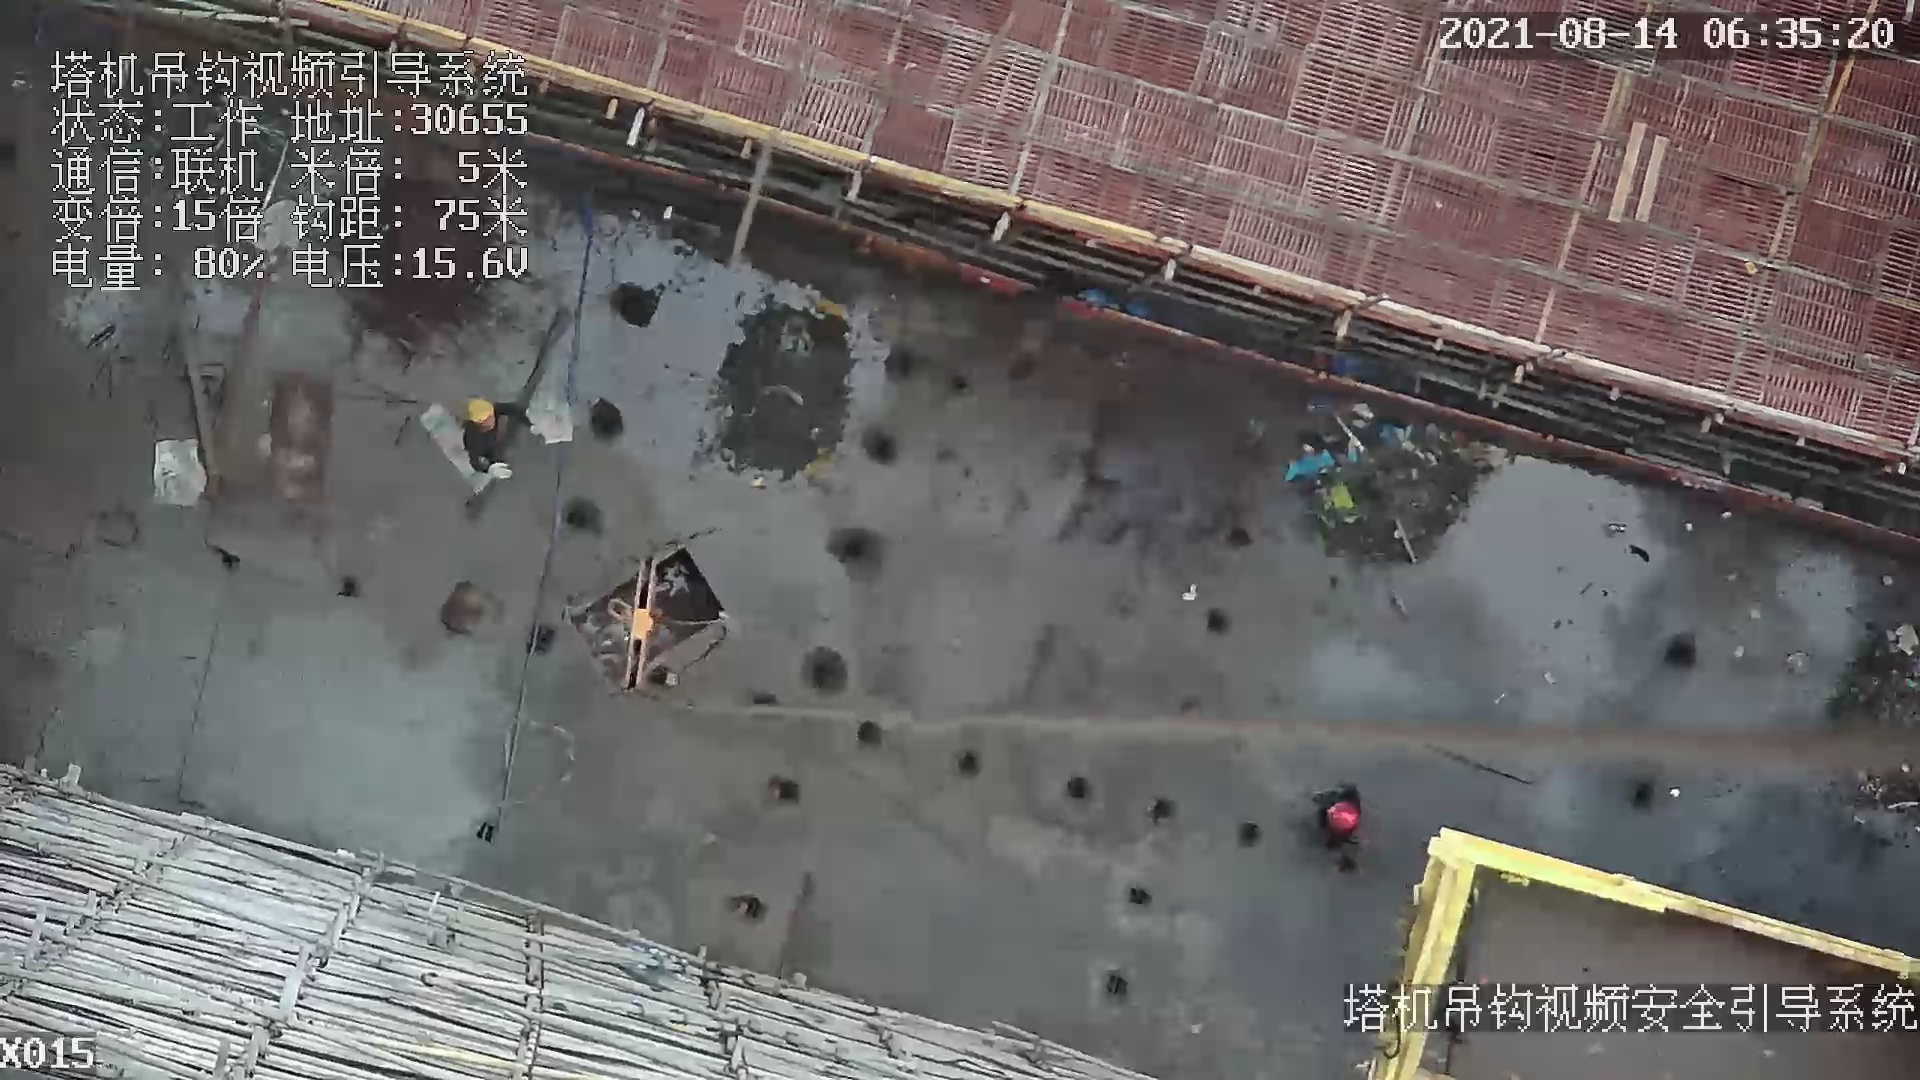helmet: (1323, 799, 1359, 834), (465, 397, 496, 424)
hook: (612, 555, 658, 692)
hopper: (572, 533, 741, 715)
person: (456, 395, 532, 489), (1304, 780, 1370, 850)
